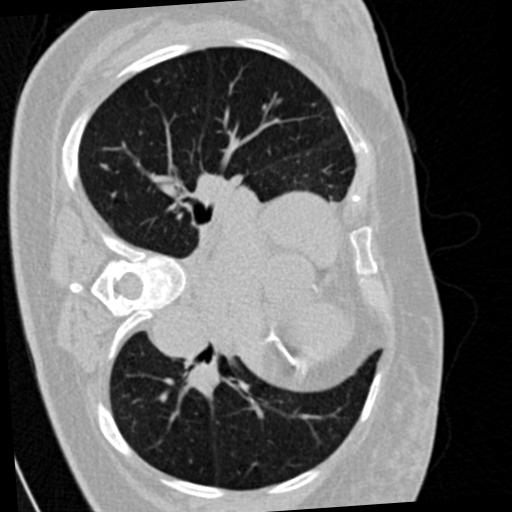nodule: (272, 95, 286, 109)
